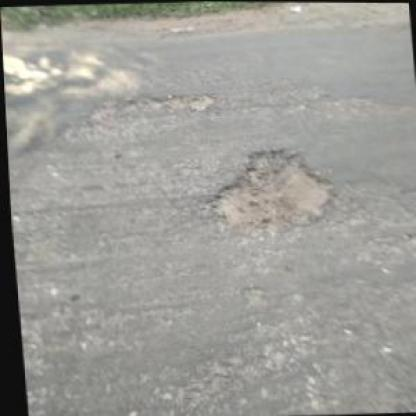pothole: (196, 144, 336, 235), (119, 90, 220, 114)
